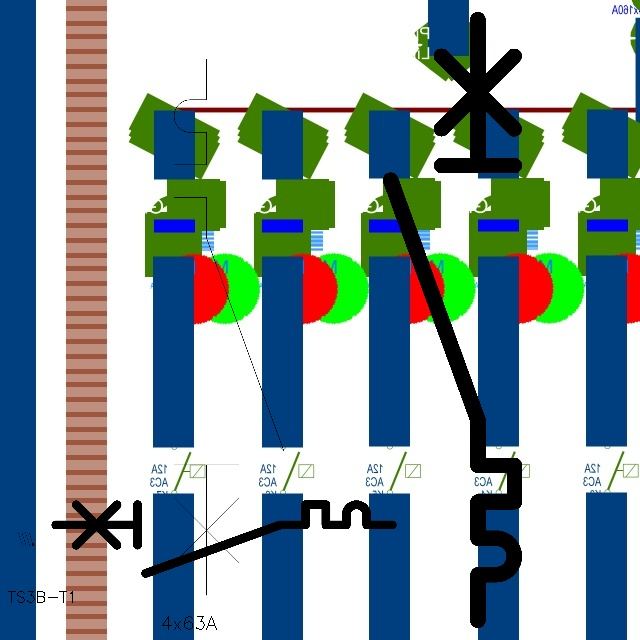interruptor_termomagnetico: (375, 4, 530, 636), (160, 45, 298, 609), (47, 496, 401, 582)
